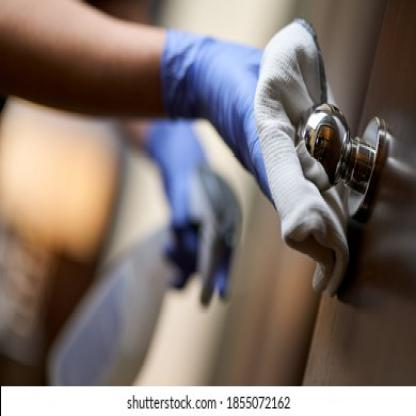with_gloves: (164, 28, 278, 208), (147, 120, 239, 303)
